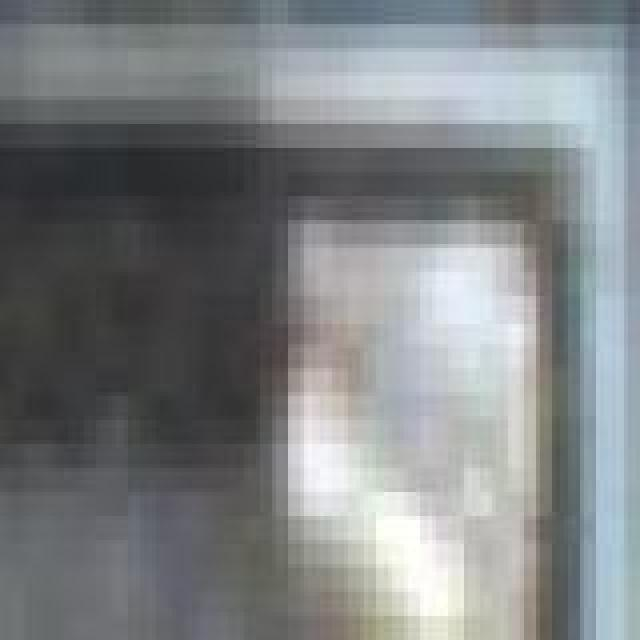inductor: (0, 64, 516, 640)
